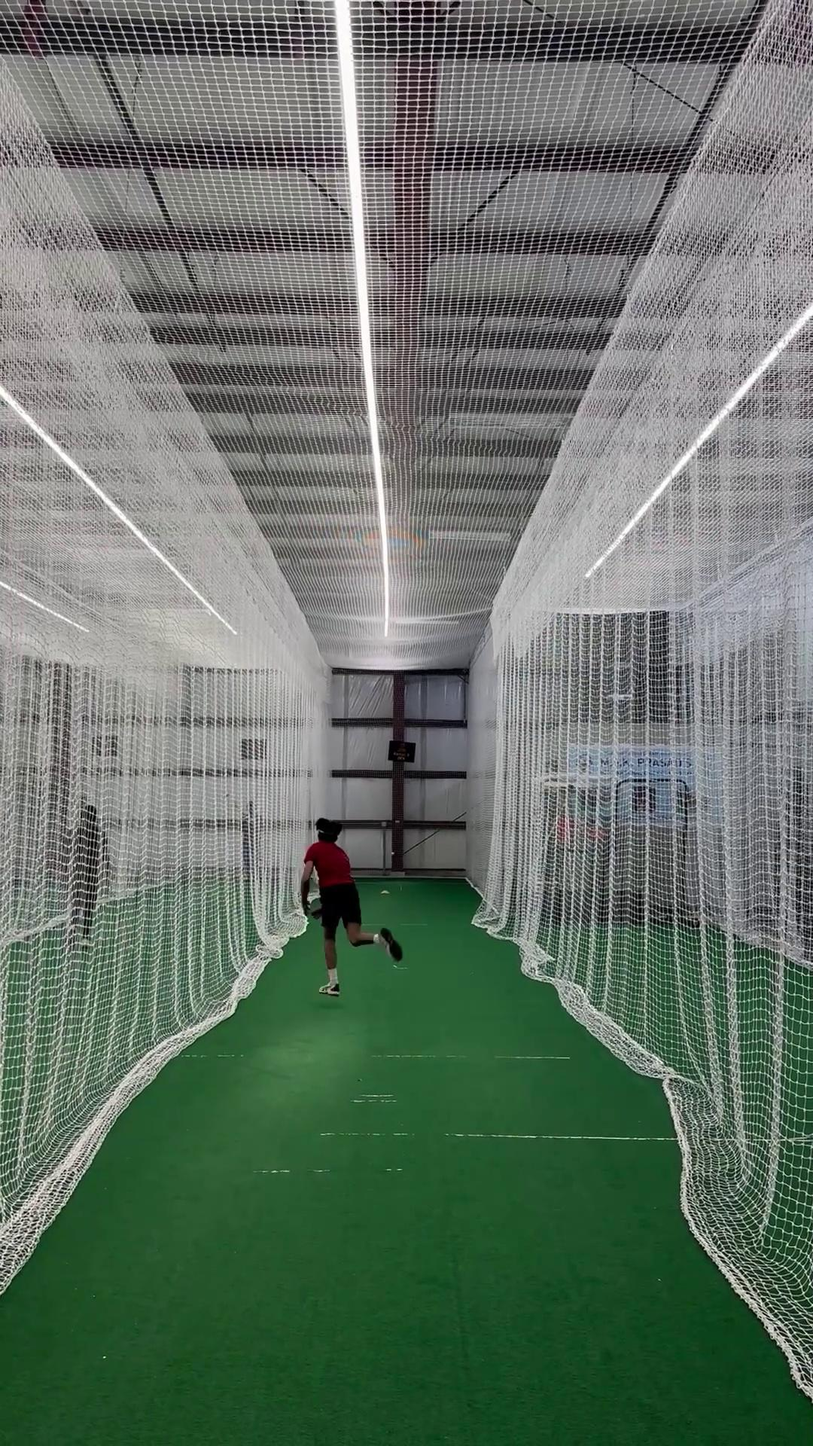ball: (389, 850, 397, 858)
